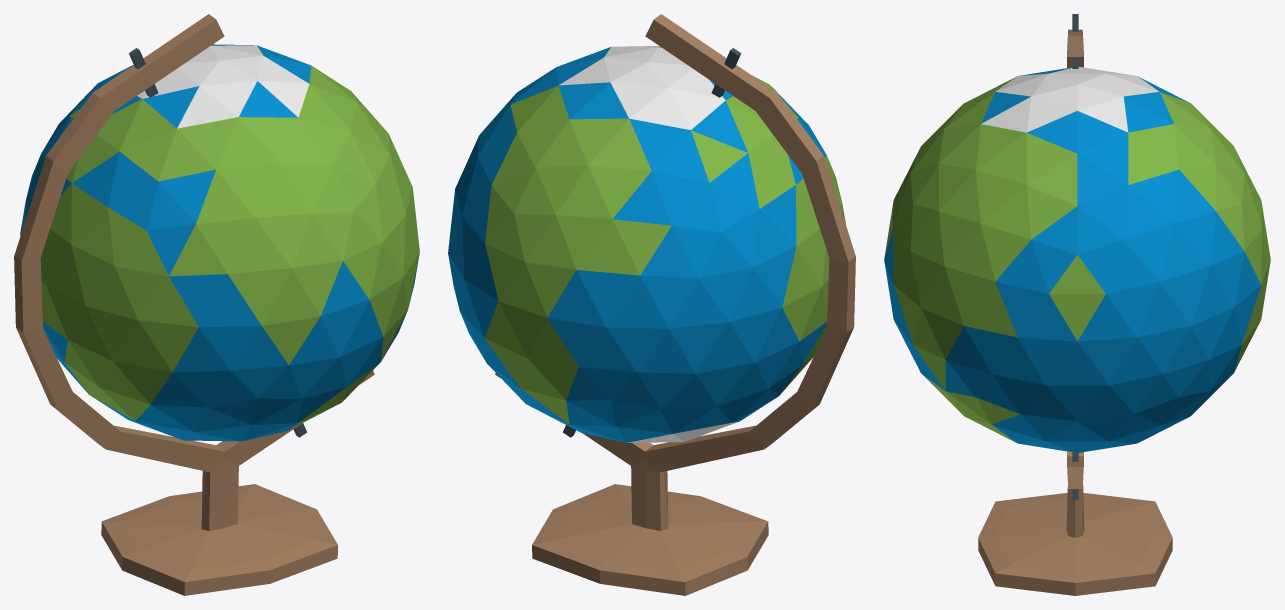
The model's file is Globe.fbx.
3 views of the same model, side by side, from view 1: azimuth 30°, elevation 25°; view 2: azimuth 150°, elevation 25°; view 3: azimuth 270°, elevation 25° (orthographic). The views are drawn at different scales.
Parts seen in each view (by area): view 1: polySurface2; view 2: polySurface2; view 3: polySurface2.
Boxes of the visible parts, <box> form: polySurface2: <box>14,14,419,595</box>; polySurface2: <box>448,14,855,595</box>; polySurface2: <box>884,14,1270,595</box>.
Size of the model in its own units: 7.42 by 10 by 6.85.
